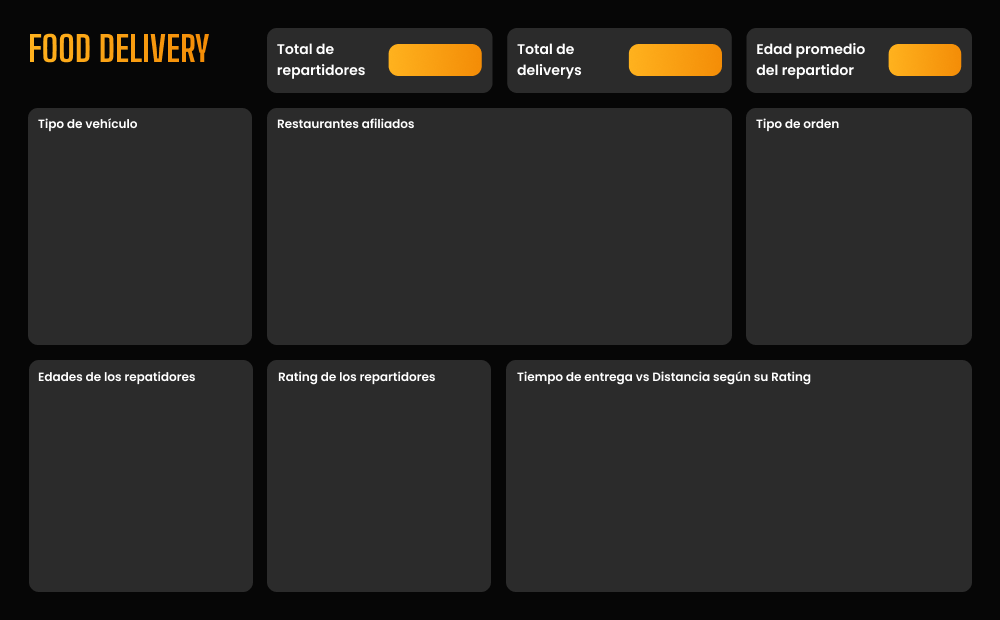

The page's visual inventory and layout, read from the dashboard file:
{"tool":"tableau","page":{"name":"Dashboard 1","canvas":[1000,620],"ordinal":0},"visuals":[{"type":"worksheet","title":"PROMEDIO DE EDAD DE REPARTIDORES","mark":"Automatic","box":[883,42,75,34]},{"type":"worksheet","title":"Total de repartidores","mark":"Automatic","box":[396,43,71,29]},{"type":"worksheet","title":"Total de deliverys","mark":"Automatic","box":[627,43,91,32]},{"type":"worksheet","title":"Tabla itpo de vehiculo","mark":"Automatic","rows":["Type_of_vehicle"],"cols":["Type_of_vehicle"],"box":[31,136,209,206]},{"type":"worksheet","title":"mapa","mark":"Multipolygon","box":[266,138,464,207]},{"type":"worksheet","title":"Tabla tipo de orden","mark":"Automatic","rows":["Type_of_order"],"cols":["Type_of_order"],"box":[752,139,207,204]},{"type":"worksheet","title":"time vs distance","mark":"Automatic","rows":["Distance"],"cols":["Time_taken(min)"],"box":[507,384,451,206]},{"type":"worksheet","title":"cant de repartidores segun su edad","mark":"Area","rows":["Delivery_person_ID"],"cols":["Delivery_person_Age"],"box":[265,387,218,202]},{"type":"worksheet","title":"cant de repartidores segun rating","mark":"Area","rows":["Delivery_person_ID"],"cols":["Delivery_person_Ratings"],"box":[31,389,208,202]}]}

Visuals, with their boxes in screenshot pixels (x1, y1, x2, y2), scaled from the page's 1000x620 canvas onto the 1000x620 screenshot:
"PROMEDIO DE EDAD DE REPARTIDORES" worksheet: (x1=883, y1=42, x2=958, y2=76)
"Total de repartidores" worksheet: (x1=396, y1=43, x2=467, y2=72)
"Total de deliverys" worksheet: (x1=627, y1=43, x2=718, y2=75)
"Tabla itpo de vehiculo" worksheet: (x1=31, y1=136, x2=240, y2=342)
"mapa" worksheet (Multipolygon marks): (x1=266, y1=138, x2=730, y2=345)
"Tabla tipo de orden" worksheet: (x1=752, y1=139, x2=959, y2=343)
"time vs distance" worksheet: (x1=507, y1=384, x2=958, y2=590)
"cant de repartidores segun su edad" worksheet (Area marks): (x1=265, y1=387, x2=483, y2=589)
"cant de repartidores segun rating" worksheet (Area marks): (x1=31, y1=389, x2=239, y2=591)
